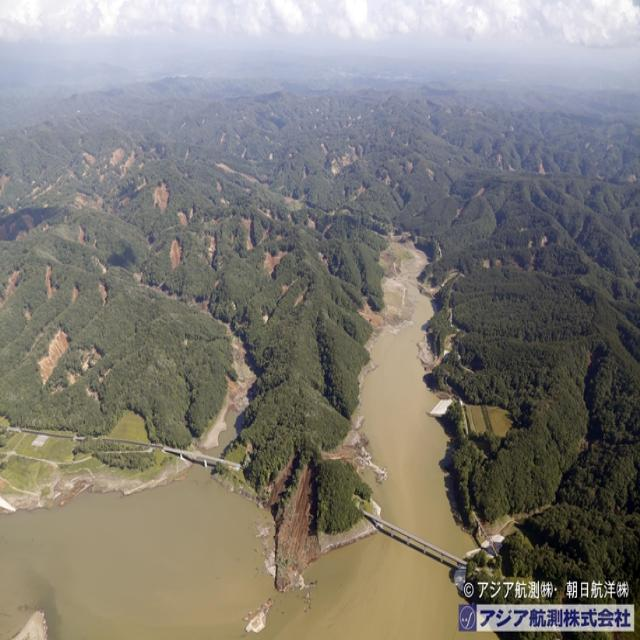Debris-flow: (39, 330, 70, 383), (215, 163, 265, 185), (0, 270, 19, 308), (110, 148, 136, 175), (264, 251, 286, 275), (152, 182, 170, 211), (80, 347, 101, 370), (75, 193, 102, 208), (45, 264, 56, 297), (170, 240, 182, 269), (109, 197, 130, 213), (15, 223, 36, 239), (0, 219, 16, 240), (178, 208, 194, 225), (243, 219, 252, 248), (99, 281, 109, 303), (135, 178, 149, 193), (209, 236, 216, 263), (71, 285, 80, 301), (82, 154, 96, 164), (20, 210, 31, 220), (79, 227, 85, 244), (199, 300, 208, 311), (24, 308, 32, 320), (134, 272, 141, 283), (262, 229, 269, 239)
landslide: (110, 148, 135, 166), (154, 182, 169, 210), (170, 240, 181, 268), (264, 255, 281, 272), (209, 238, 216, 255), (180, 210, 188, 224), (219, 165, 230, 172)
